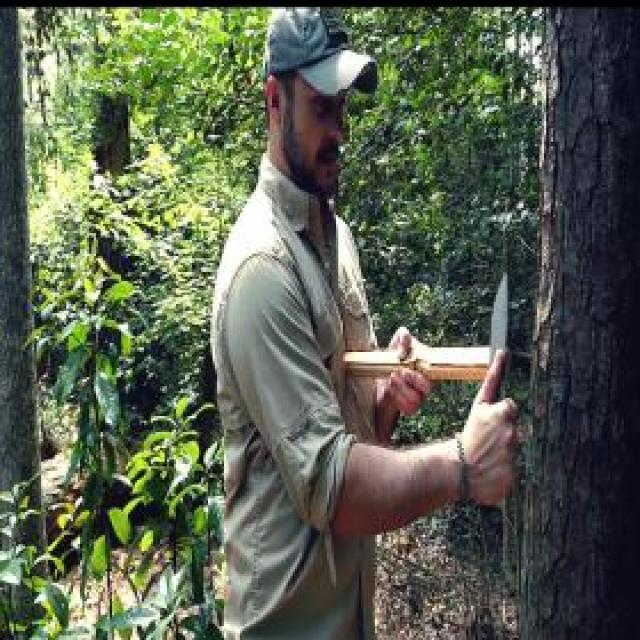knife: (475, 263, 528, 468)
